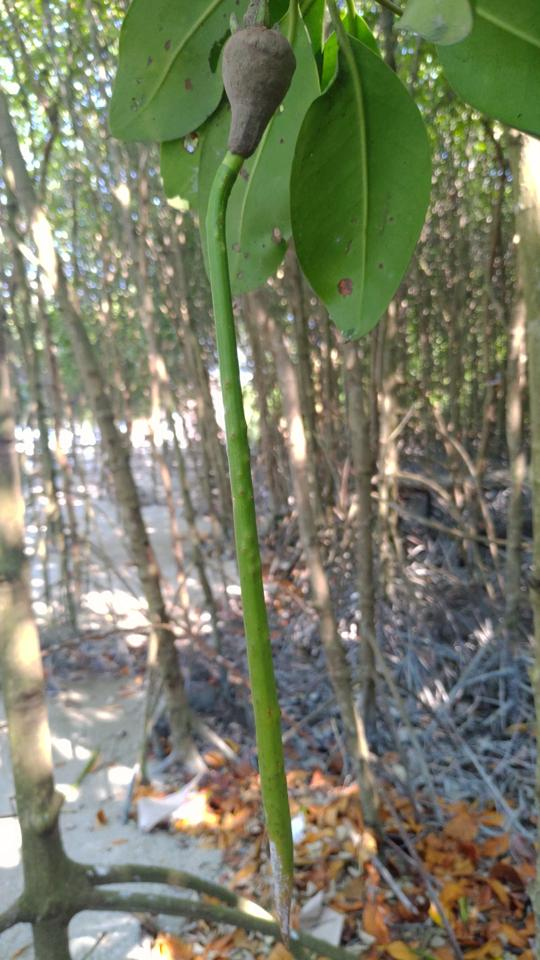setengah matang: (196, 4, 331, 938)
